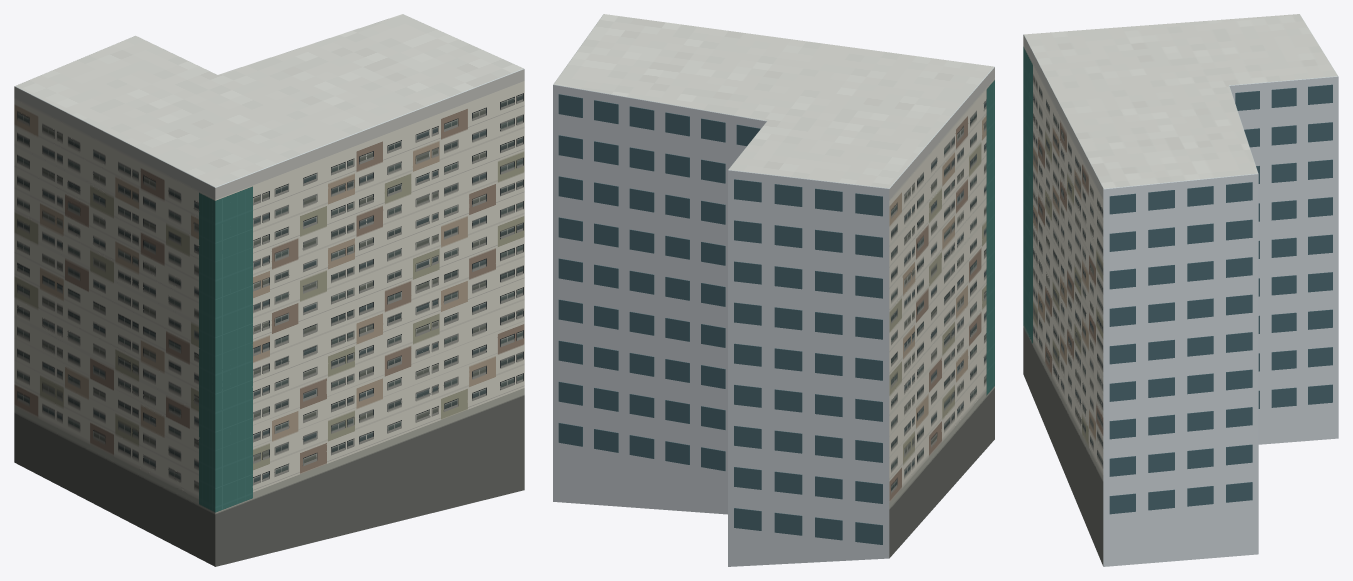
The model's file is fragments.glb.
3 renders of one model, left to right at view 1: azimuth 30°, elevation 25°; view 2: azimuth 150°, elevation 25°; view 3: azimuth 270°, elevation 25°, orthographic. The views are drawn at different scales.
Parts seen in each view (by area): view 1: SM_nuri-west_Fragment_000, SM_nuri-west_Fragment_018, SM_nuri-west_Fragment_006, SM_nuri-west_Fragment_011, SM_nuri-west_Fragment_034, SM_nuri-west_Fragment_038, SM_nuri-west_Fragment_017, SM_nuri-west_Fragment_023, SM_nuri-west_Fragment_019, SM_nuri-west_Fragment_025, SM_nuri-west_Fragment_060, SM_nuri-west_Fragment_054 (+28 smaller); view 2: SM_nuri-west_Fragment_029, SM_nuri-west_Fragment_022, SM_nuri-west_Fragment_003, SM_nuri-west_Fragment_058, SM_nuri-west_Fragment_012, SM_nuri-west_Fragment_039, SM_nuri-west_Fragment_005, SM_nuri-west_Fragment_053, SM_nuri-west_Fragment_024, SM_nuri-west_Fragment_017, SM_nuri-west_Fragment_046, SM_nuri-west_Fragment_027 (+26 smaller); view 3: SM_nuri-west_Fragment_013, SM_nuri-west_Fragment_035, SM_nuri-west_Fragment_032, SM_nuri-west_Fragment_031, SM_nuri-west_Fragment_005, SM_nuri-west_Fragment_002, SM_nuri-west_Fragment_003, SM_nuri-west_Fragment_017, SM_nuri-west_Fragment_015, SM_nuri-west_Fragment_045, SM_nuri-west_Fragment_044, SM_nuri-west_Fragment_023 (+29 smaller).
Boxes of the visible parts, x1,y1,x2,y2 form: SM_nuri-west_Fragment_000: (190,127,336,276); SM_nuri-west_Fragment_018: (168,211,292,372); SM_nuri-west_Fragment_006: (411,234,524,370); SM_nuri-west_Fragment_011: (14,202,117,338); SM_nuri-west_Fragment_034: (109,280,244,429); SM_nuri-west_Fragment_038: (96,151,197,299); SM_nuri-west_Fragment_017: (51,61,189,191); SM_nuri-west_Fragment_023: (303,81,439,199); SM_nuri-west_Fragment_019: (297,228,418,363); SM_nuri-west_Fragment_025: (161,384,249,532); SM_nuri-west_Fragment_060: (378,387,485,510); SM_nuri-west_Fragment_054: (393,76,511,197); SM_nuri-west_Fragment_029: (553,211,689,338); SM_nuri-west_Fragment_022: (728,233,902,342); SM_nuri-west_Fragment_003: (553,78,663,212); SM_nuri-west_Fragment_058: (728,340,895,429); SM_nuri-west_Fragment_012: (553,327,654,454); SM_nuri-west_Fragment_039: (808,166,917,291); SM_nuri-west_Fragment_005: (728,138,812,291); SM_nuri-west_Fragment_053: (607,69,728,187); SM_nuri-west_Fragment_024: (806,392,912,509); SM_nuri-west_Fragment_017: (786,116,939,226); SM_nuri-west_Fragment_046: (650,345,727,473); SM_nuri-west_Fragment_027: (613,434,727,514); SM_nuri-west_Fragment_013: (1088,193,1202,343); SM_nuri-west_Fragment_035: (1133,328,1258,450); SM_nuri-west_Fragment_032: (1087,399,1198,541); SM_nuri-west_Fragment_031: (1098,138,1244,244); SM_nuri-west_Fragment_005: (1256,45,1338,197); SM_nuri-west_Fragment_002: (1258,226,1338,348); SM_nuri-west_Fragment_003: (1187,151,1258,293); SM_nuri-west_Fragment_017: (1169,17,1315,70); SM_nuri-west_Fragment_015: (1096,63,1234,119); SM_nuri-west_Fragment_045: (1051,23,1185,83); SM_nuri-west_Fragment_044: (1187,474,1258,558); SM_nuri-west_Fragment_023: (1053,90,1142,185).
Size of the model in its own units: 2.2 by 2.23 by 1.67.
7 materials, 3 textured.
